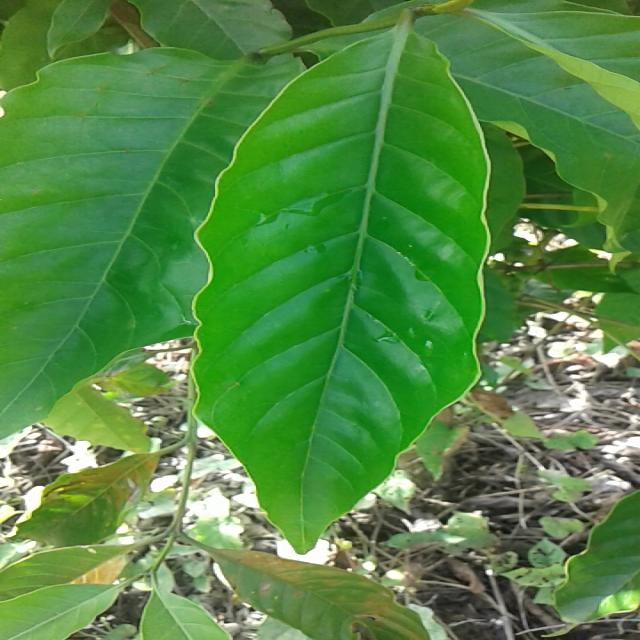Sanas: (192, 16, 524, 556)
